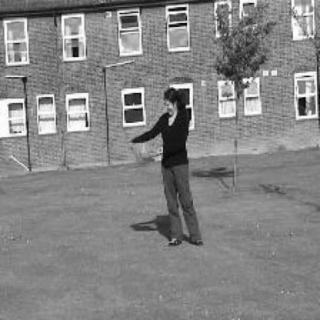other: (131, 139, 165, 165)
